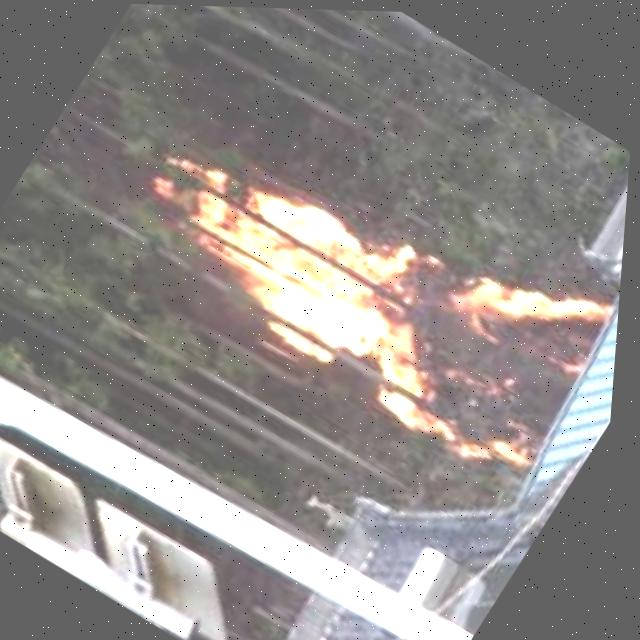Fire: (79, 62, 637, 497)
